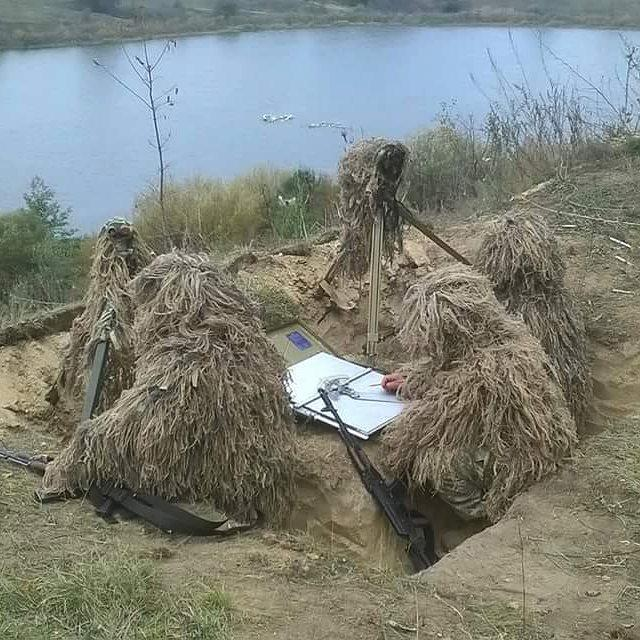Camouflage: (41, 251, 296, 521), (372, 262, 578, 523), (474, 208, 596, 438)
